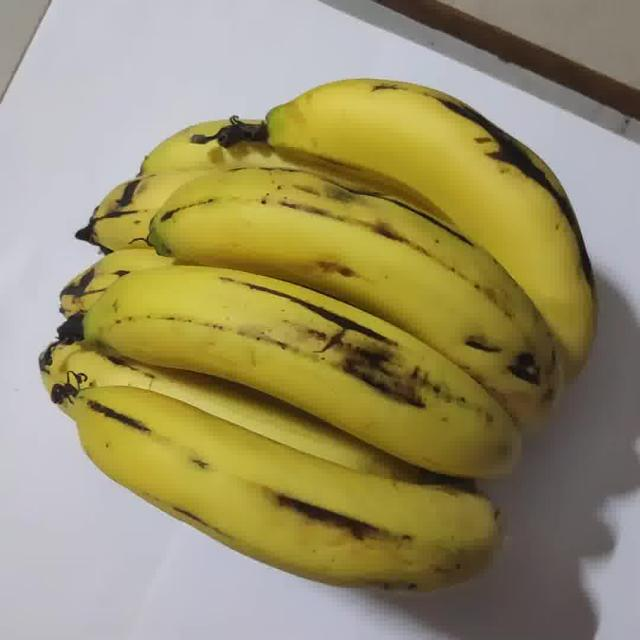banana_pacche: (23, 34, 610, 640)
